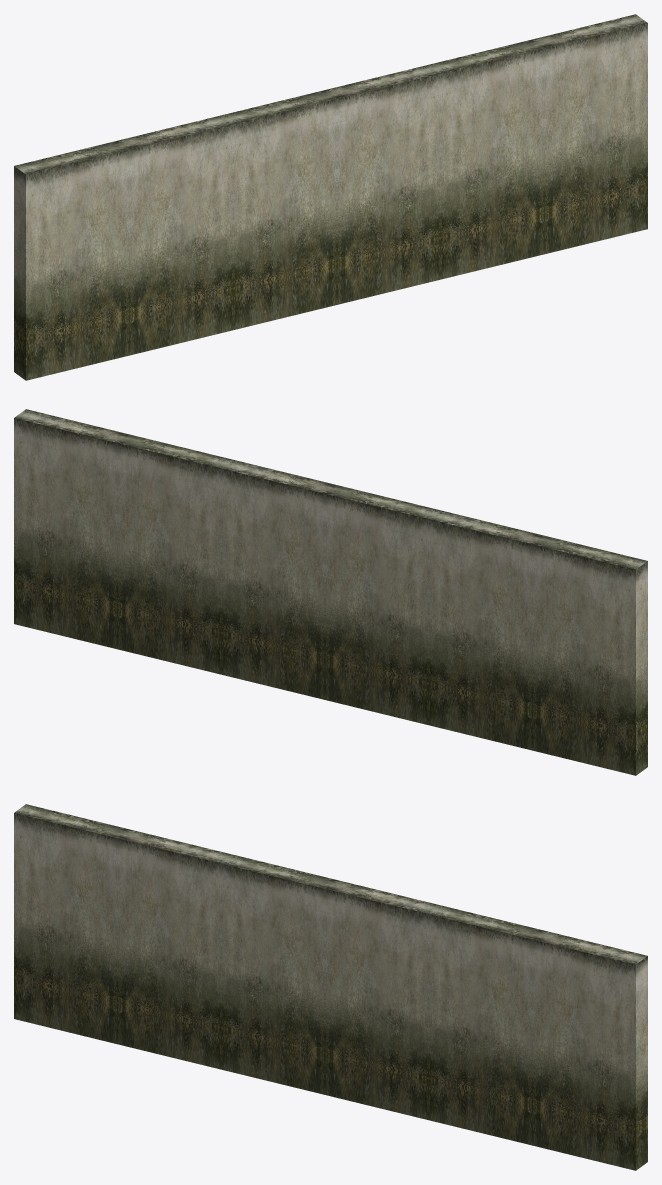
Rendered from TallWallStucco_60.fbx.
3 views of the same model, one above another, from view 1: azimuth 30°, elevation 25°; view 2: azimuth 150°, elevation 25°; view 3: azimuth 330°, elevation 25° (orthographic).
Visible parts, largest first — view 1: lod_high; view 2: lod_high; view 3: lod_high.
Boxes of the visible parts, x1,y1,x2,y2 form: lod_high: (14, 14, 647, 380); lod_high: (14, 409, 647, 775); lod_high: (14, 804, 647, 1170).
Bounding box in the file's own units: 6000 × 1900 × 202.
Materials: 1 (1 with a texture image).
